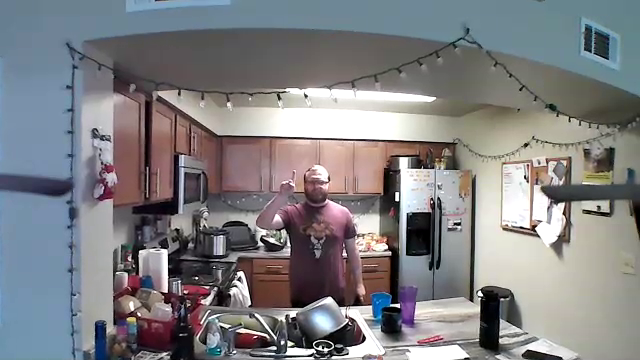up: (277, 167, 298, 199)
